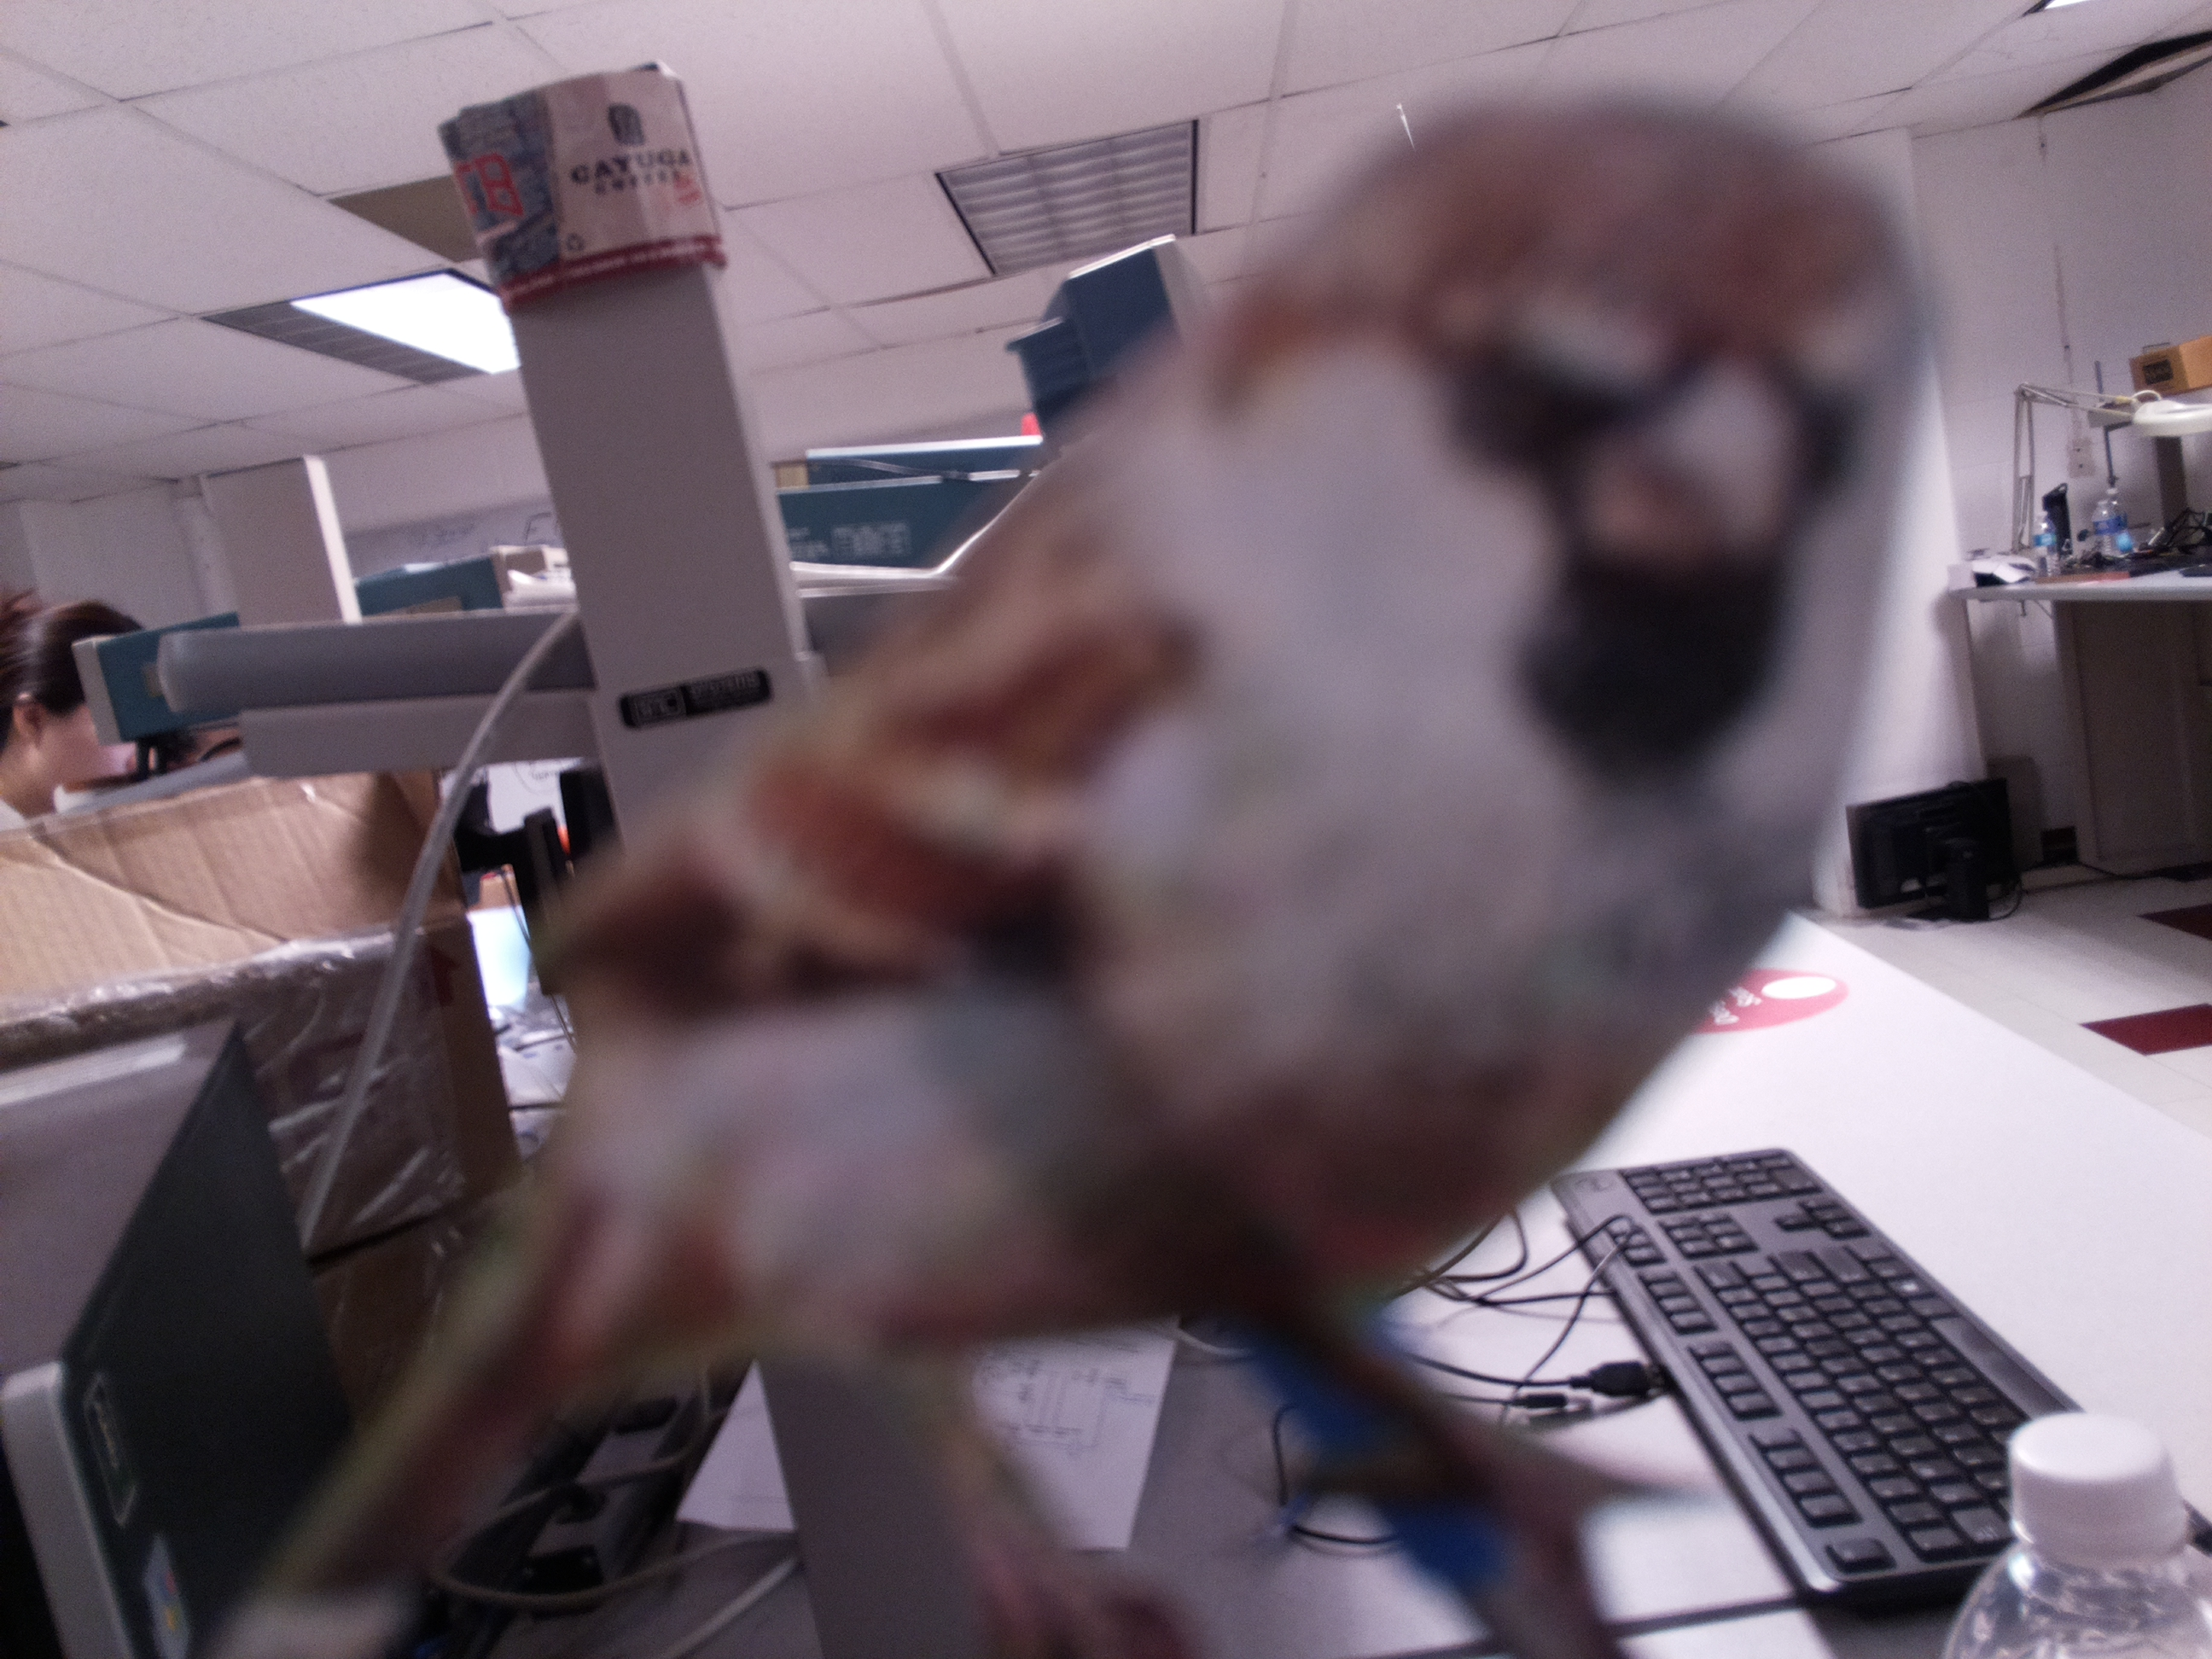bird: (160, 84, 1925, 1659)
